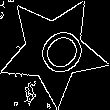O_SW: (21, 18, 86, 83)
